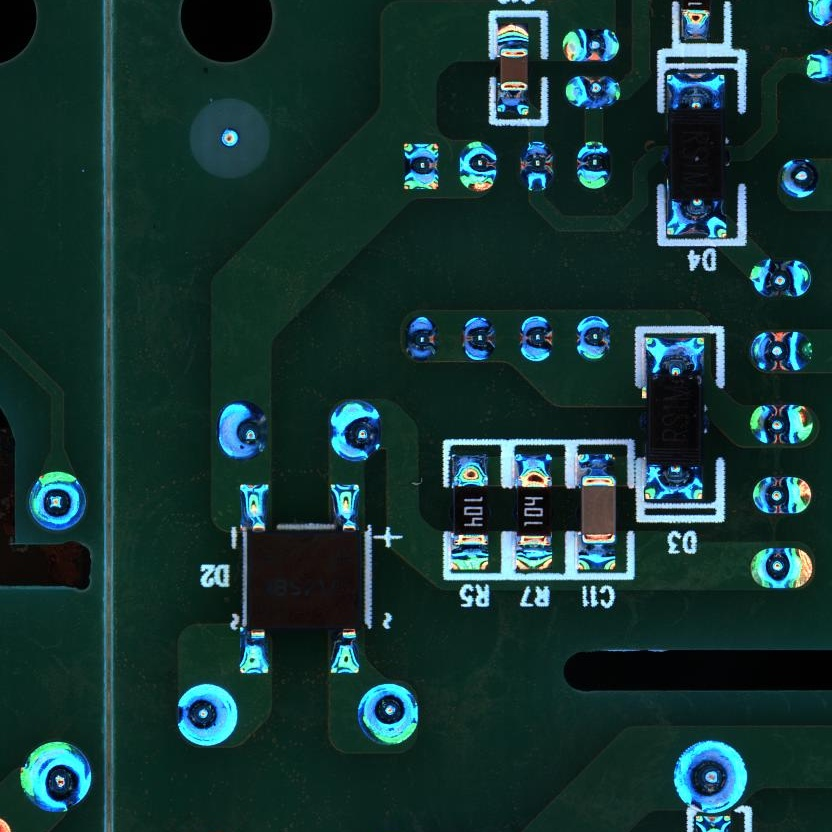spot: (672, 738, 751, 816), (17, 739, 93, 812), (175, 681, 240, 749), (356, 681, 421, 749), (26, 468, 88, 533), (212, 398, 270, 463), (329, 399, 385, 463), (747, 402, 818, 449), (747, 330, 816, 374), (748, 545, 815, 590), (749, 473, 812, 517), (749, 256, 812, 298), (562, 74, 624, 110), (457, 139, 498, 193), (561, 27, 619, 63), (573, 314, 614, 364), (401, 140, 439, 193), (518, 139, 556, 192), (516, 314, 556, 364), (777, 156, 821, 200), (575, 140, 613, 190), (461, 314, 498, 365), (405, 314, 438, 360)
